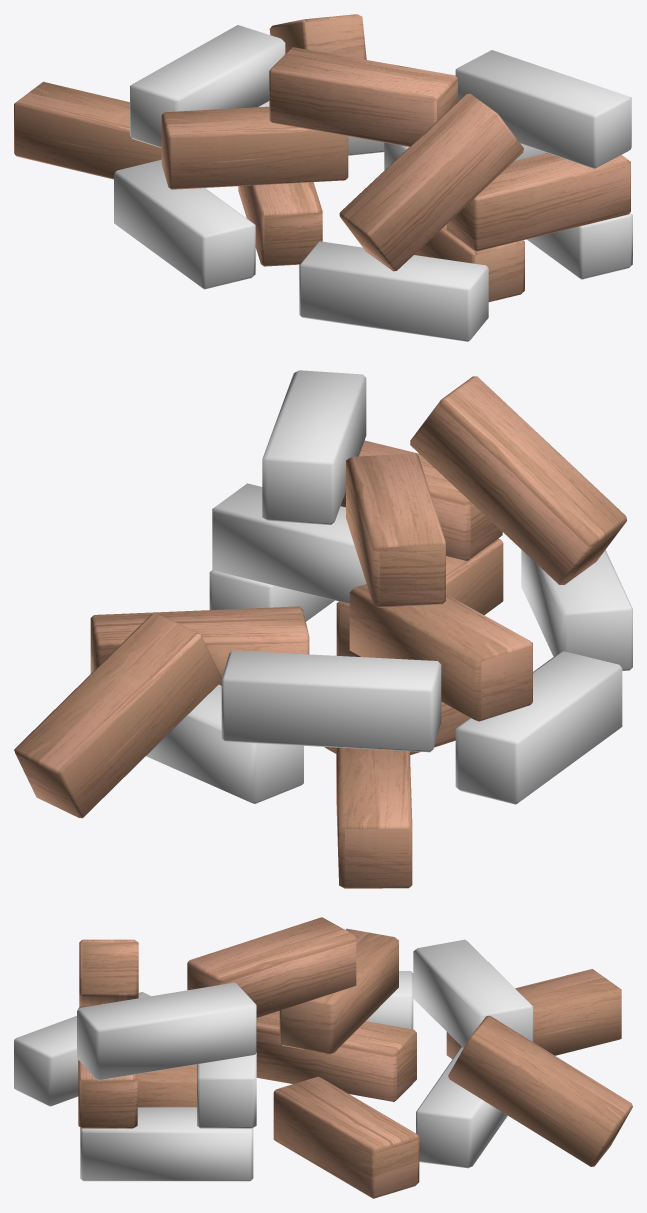
The model's file is Jenga3.fbx.
The picture shows the model from 3 angles, top to bottom: view 1: azimuth 30°, elevation 25°; view 2: azimuth 150°, elevation 25°; view 3: azimuth 270°, elevation 25°; orthographic projection. The views are drawn at different scales.
Parts seen in each view (by area): view 1: Jenga3.006, Jenga3.007, Jenga3.008, Jenga3.009, Jenga3.005, Jenga3.003, Jenga3.010, Jenga3.015, Jenga3.013, Jenga3.011, Jenga3.001, Jenga3.002 (+3 smaller); view 2: Jenga3.006, Jenga3.014, Jenga3.015, Jenga3.010, Jenga3.009, Jenga3.005, Jenga3.008, Jenga3.004, Jenga3.013, Jenga3.007, Jenga3.012, Jenga3.016 (+4 smaller); view 3: Jenga3.014, Jenga3.005, Jenga3.016, Jenga3.001, Jenga3.008, Jenga3.011, Jenga3.015, Jenga3.009, Jenga3.013, Jenga3.012, Jenga3.007, Jenga3.004 (+4 smaller).
Boxes of the visible parts, left/top/right/bottom form: Jenga3.006: left=339, top=93, right=523, bottom=271; Jenga3.007: left=299, top=241, right=488, bottom=341; Jenga3.008: left=269, top=47, right=457, bottom=146; Jenga3.009: left=161, top=106, right=348, bottom=189; Jenga3.005: left=455, top=50, right=631, bottom=168; Jenga3.003: left=446, top=153, right=630, bottom=251; Jenga3.010: left=114, top=159, right=255, bottom=289; Jenga3.015: left=130, top=25, right=285, bottom=147; Jenga3.013: left=14, top=81, right=161, bottom=179; Jenga3.011: left=238, top=182, right=322, bottom=266; Jenga3.001: left=527, top=213, right=632, bottom=279; Jenga3.002: left=414, top=224, right=524, bottom=302; Jenga3.006: left=410, top=376, right=626, bottom=584; Jenga3.014: left=14, top=613, right=221, bottom=818; Jenga3.015: left=221, top=650, right=441, bottom=752; Jenga3.010: left=455, top=651, right=622, bottom=804; Jenga3.009: left=349, top=584, right=532, bottom=721; Jenga3.005: left=262, top=370, right=366, bottom=524; Jenga3.008: left=346, top=453, right=445, bottom=607; Jenga3.004: left=212, top=483, right=366, bottom=603; Jenga3.013: left=336, top=747, right=412, bottom=888; Jenga3.007: left=521, top=550, right=632, bottom=670; Jenga3.012: left=146, top=684, right=303, bottom=803; Jenga3.016: left=90, top=606, right=309, bottom=685; Jenga3.014: left=448, top=1015, right=632, bottom=1166; Jenga3.005: left=77, top=982, right=256, bottom=1080; Jenga3.016: left=273, top=1076, right=419, bottom=1198; Jenga3.001: left=80, top=1107, right=253, bottom=1181; Jenga3.008: left=187, top=917, right=356, bottom=1017; Jenga3.011: left=256, top=1010, right=416, bottom=1101; Jenga3.015: left=413, top=939, right=533, bottom=1047; Jenga3.009: left=279, top=928, right=398, bottom=1054; Jenga3.013: left=446, top=969, right=621, bottom=1059; Jenga3.012: left=416, top=1046, right=507, bottom=1168; Jenga3.007: left=14, top=992, right=150, bottom=1106; Jenga3.004: left=197, top=1052, right=256, bottom=1128.
Size of the model in its own units: 9.02 by 6.2 by 2.88.
